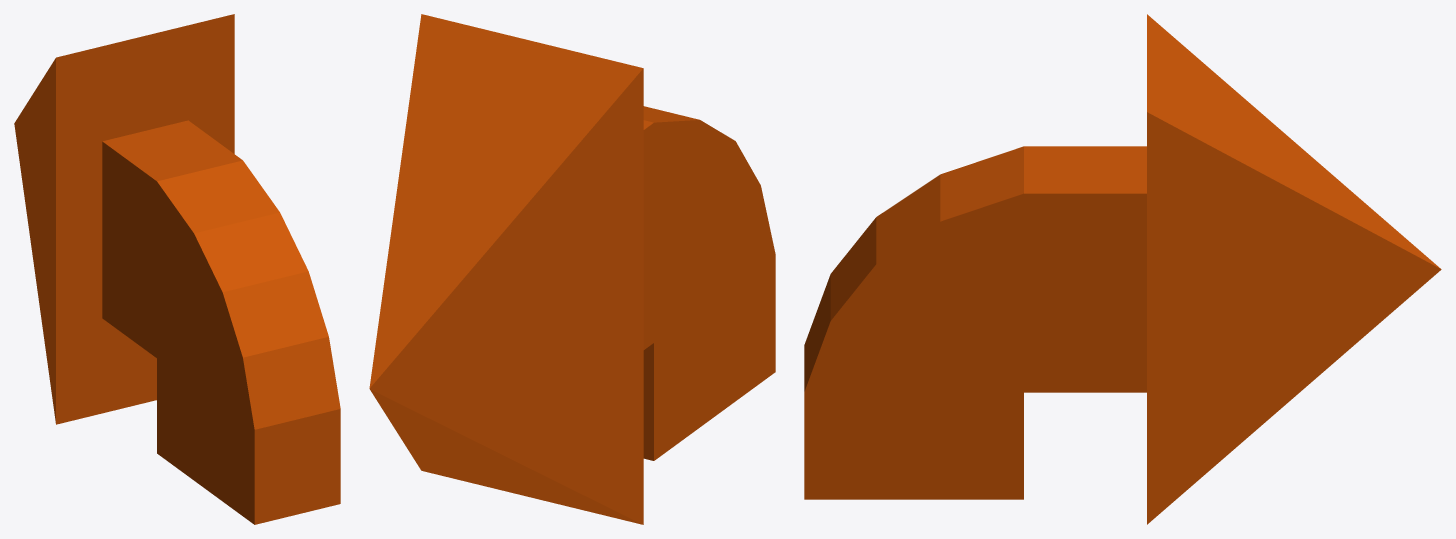
Rendered from turn-signal.obj.
3 views of the same model, side by side, from view 1: azimuth 30°, elevation 25°; view 2: azimuth 150°, elevation 25°; view 3: azimuth 270°, elevation 25° (orthographic). The views are drawn at different scales.
Visible parts, largest first — view 1: Cube_Cube.001; view 2: Cube_Cube.001; view 3: Cube_Cube.001.
Part boxes in pixels (bbox=[...]): Cube_Cube.001: bbox=[14, 14, 340, 524]; Cube_Cube.001: bbox=[369, 14, 775, 524]; Cube_Cube.001: bbox=[804, 14, 1441, 524].
Bounding box in the file's own units: 0.7867 × 1.55 × 2.16.
